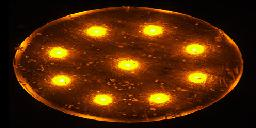LED: (114, 55, 145, 75), (144, 89, 172, 108), (140, 22, 170, 37), (85, 19, 106, 40), (88, 92, 113, 108), (47, 44, 70, 61), (47, 73, 72, 86)
